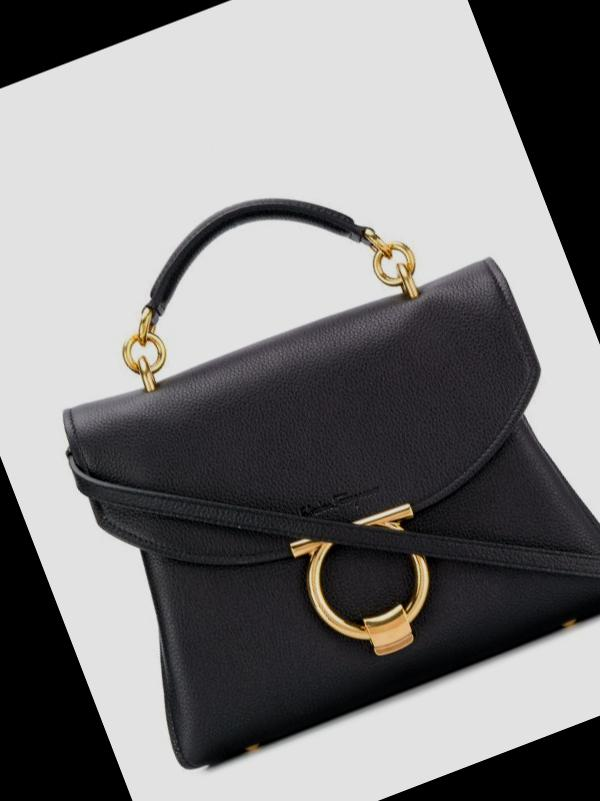FERRAGAMO: (260, 464, 484, 694)
